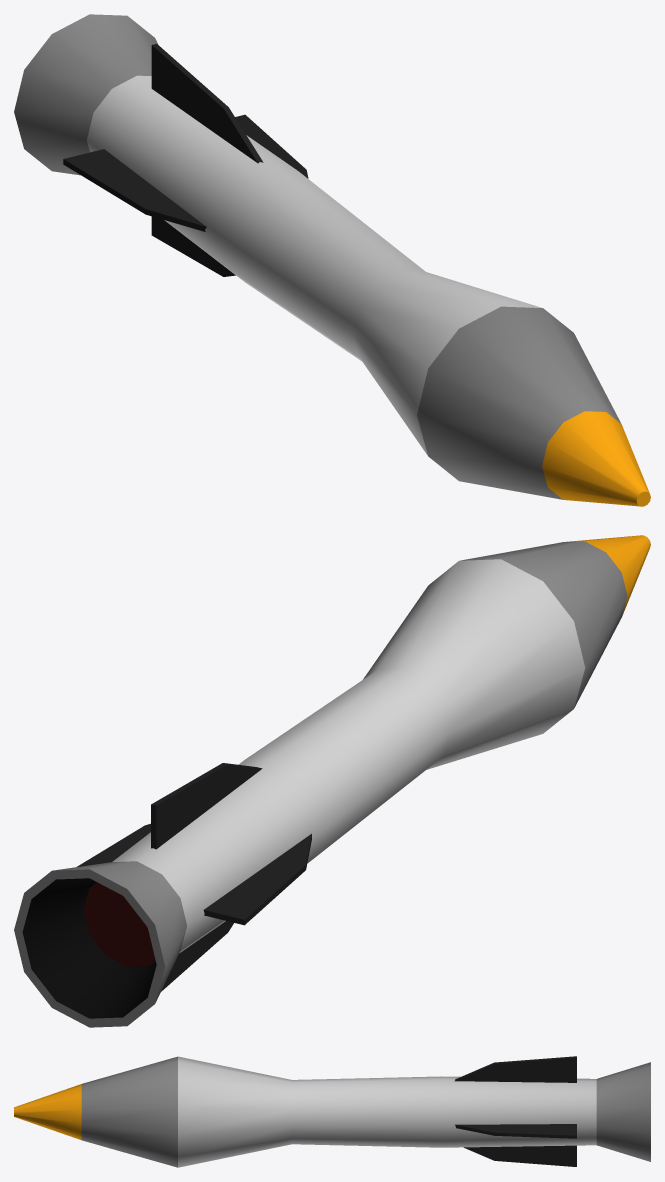
File: Rocket.fbx
3 renders of one model, top to bottom at view 1: azimuth 30°, elevation 25°; view 2: azimuth 150°, elevation 25°; view 3: azimuth 270°, elevation 25°, orthographic. The views are drawn at different scales.
Parts seen in each view (by area): view 1: Rocket; view 2: Rocket; view 3: Rocket.
Boxes of the visible parts, x1,y1,x2,y2 form: Rocket: (14, 14, 650, 506); Rocket: (14, 535, 650, 1027); Rocket: (14, 1056, 650, 1167).
Size of the model in its own units: 20.84 by 20.84 by 110.
1 material, 1 textured.
